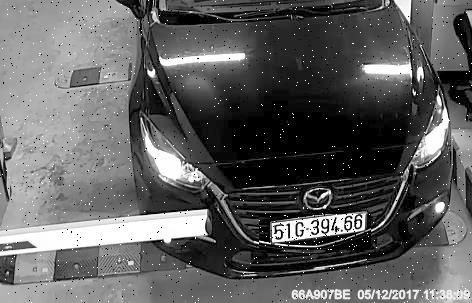License-plate: (260, 216, 372, 253)
